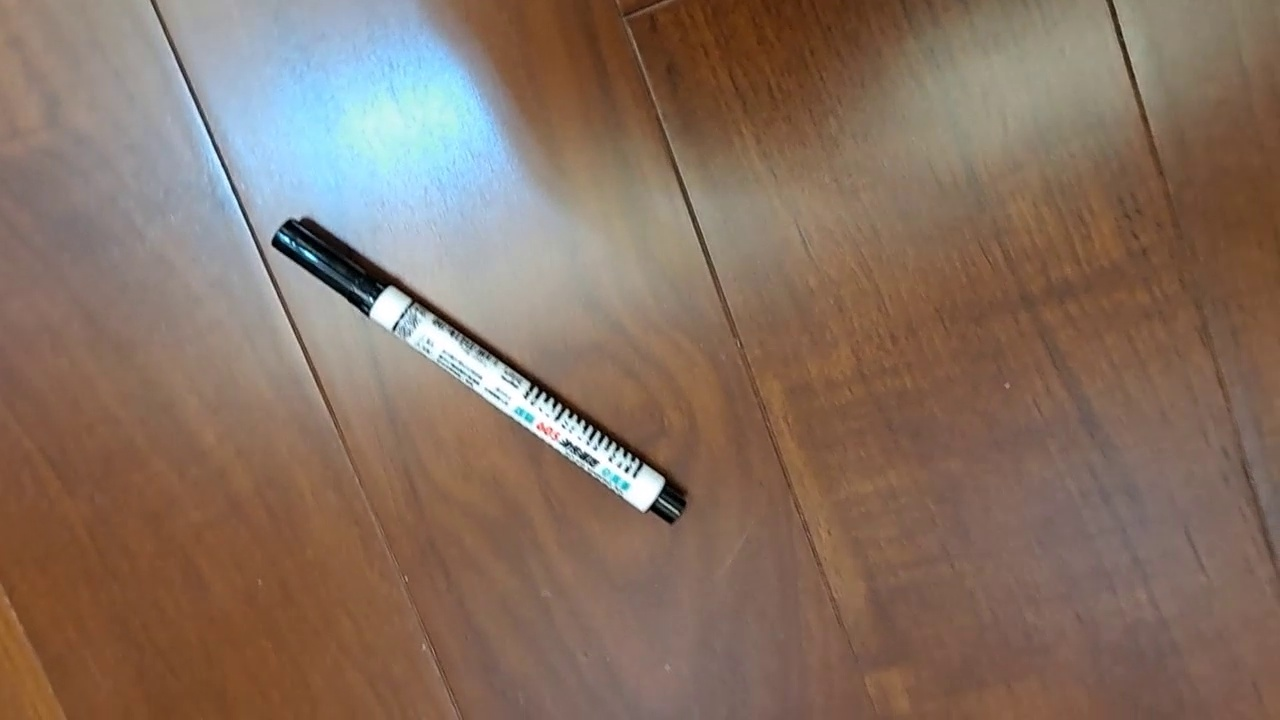pen: (270, 216, 689, 526)
